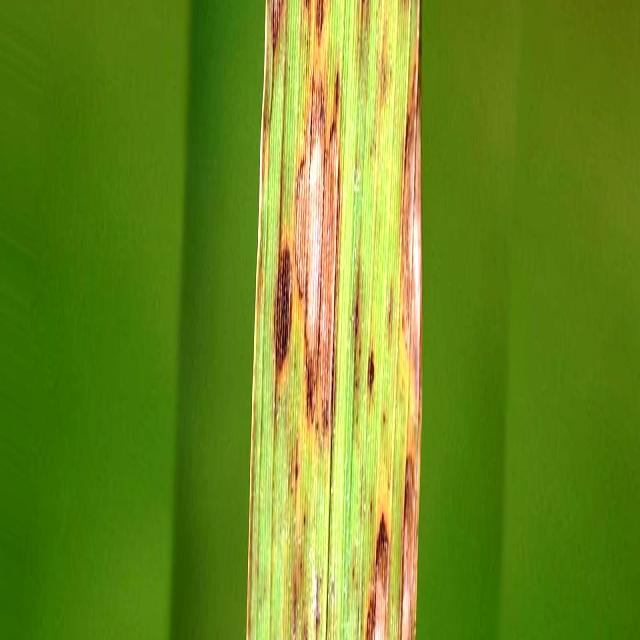LEAF BLAST: (290, 50, 343, 452), (399, 64, 421, 424), (400, 455, 418, 640), (366, 505, 390, 640), (274, 240, 292, 371), (272, 0, 282, 53), (316, 0, 324, 38), (401, 0, 404, 14), (304, 0, 309, 7)
